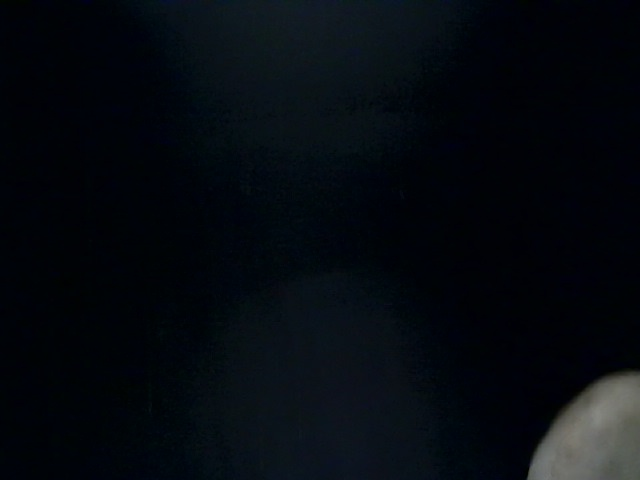QTLJ: (419, 122, 588, 386)
